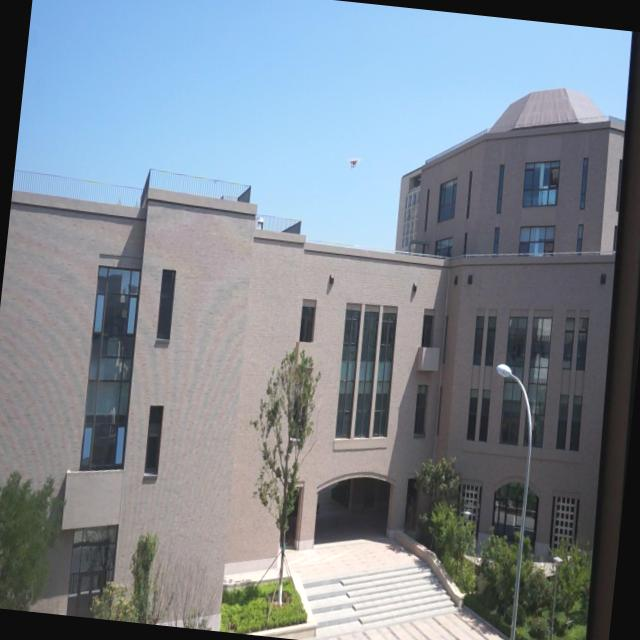drone: (346, 153, 360, 172)
